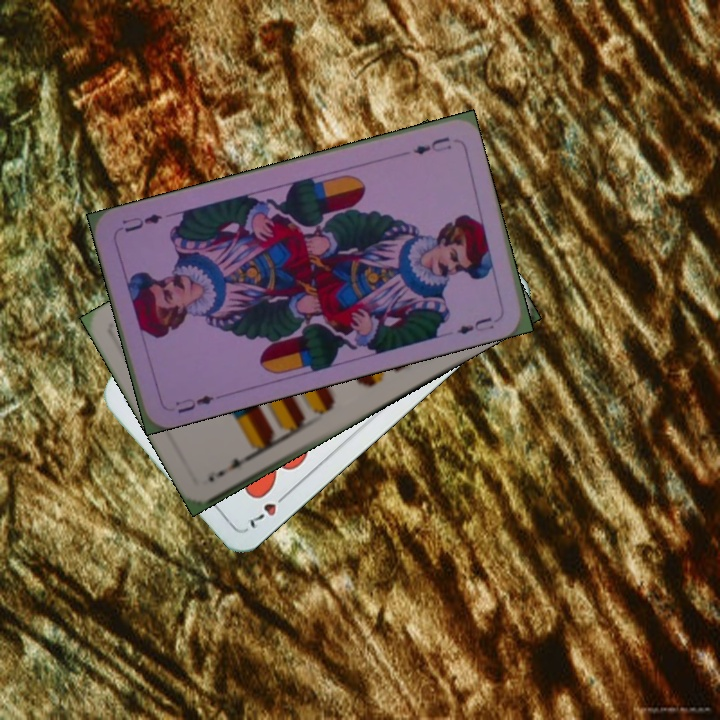E7: (212, 449, 256, 480)
EU: (409, 132, 454, 158), (171, 391, 217, 416)
H7: (243, 488, 292, 532)
